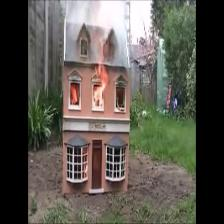fire: (92, 59, 111, 109), (71, 85, 78, 103)
